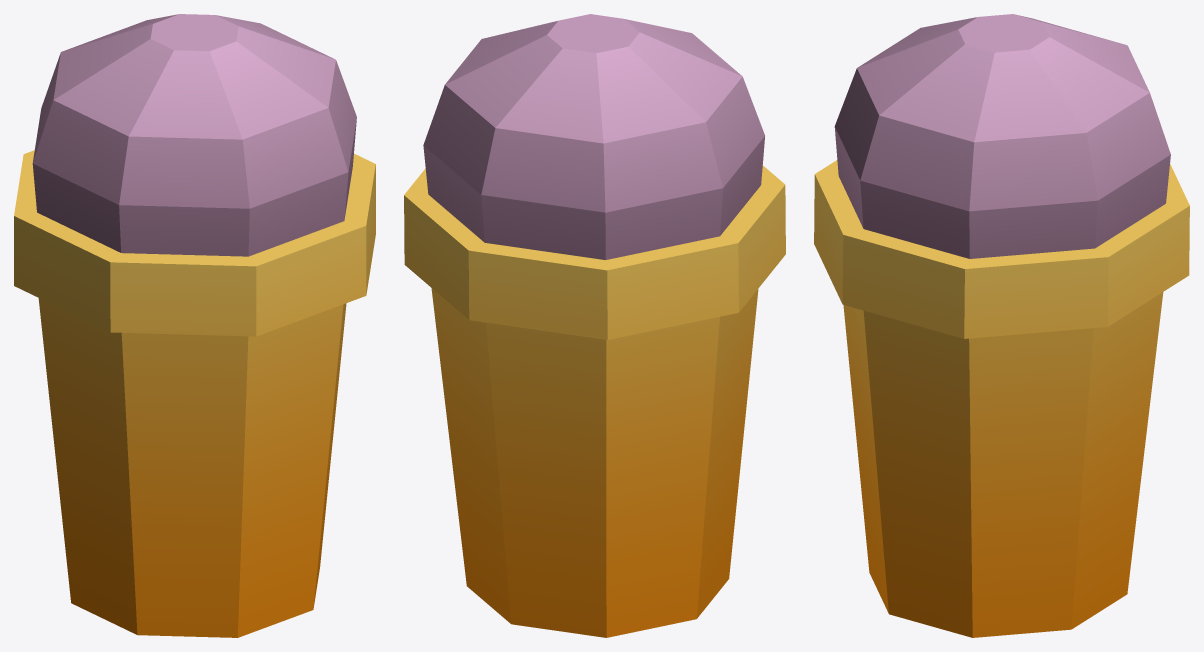
The model's file is ice cream.fbx.
3 renders of one model, left to right at view 1: azimuth 30°, elevation 25°; view 2: azimuth 150°, elevation 25°; view 3: azimuth 270°, elevation 25°, orthographic.
Visible parts, largest first — view 1: ice_cream; view 2: ice_cream; view 3: ice_cream.
Boxes of the visible parts, x1,y1,x2,y2 form: ice_cream: (14,14,375,637); ice_cream: (404,14,785,637); ice_cream: (814,14,1189,637).
Size of the model in its own units: 94.05 by 152 by 94.15.
Materials: 1 (1 with a texture image).
